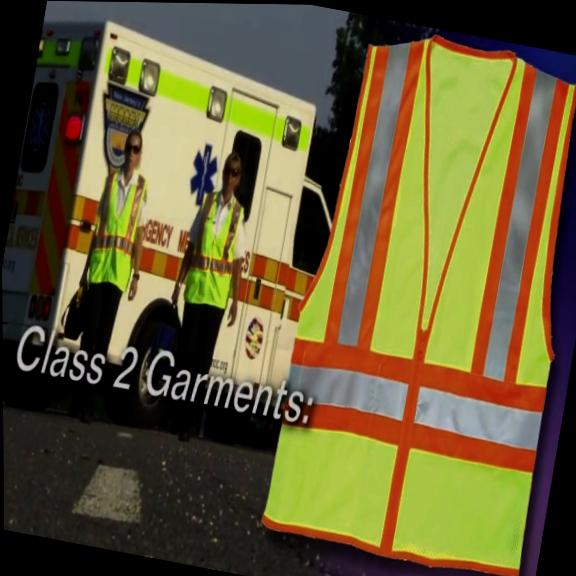safety_vest: (254, 12, 576, 576), (84, 163, 150, 294), (183, 188, 248, 309)
